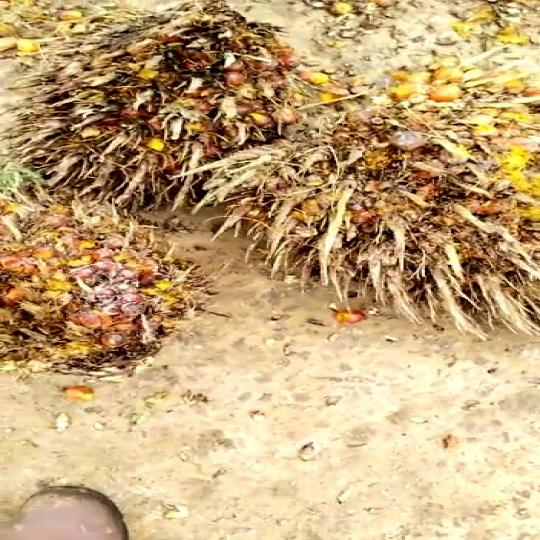terlalu masak: (214, 94, 540, 313), (0, 11, 321, 200)
